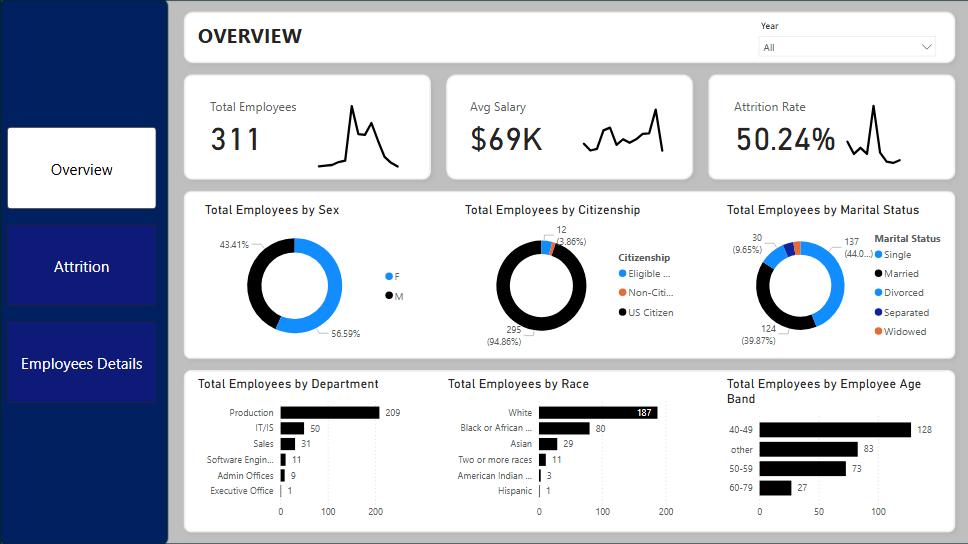

The page's visual inventory and layout, read from the dashboard file:
{"tool":"powerbi","page":{"name":"Overview","canvas":[1280,720],"ordinal":0},"visuals":[{"type":"cardVisual","fields":{"Data":["Measures (2).Total Employees"]},"box":[265.5,119.2,150.8,99],"z":0},{"type":"cardVisual","fields":{"Data":["Measures (2).Attrition Rate"]},"box":[955.1,106.9,162,123.8],"z":3000},{"type":"donutChart","fields":{"Y":["Measures (2).Total Employees"],"Category":["Dataset.Sex"]},"box":[265,267.6,282.1,201.7],"z":4000},{"type":"donutChart","fields":{"Y":["Measures (2).Total Employees"],"Series":["Dataset.CitizenDesc"]},"box":[607.7,267.6,299.2,201.7],"z":5000},{"type":"donutChart","fields":{"Y":["Measures (2).Total Employees"],"Category":["Dataset.MaritalDesc"]},"box":[953.1,267.6,299.2,201.7],"z":6000},{"type":"cardVisual","fields":{"Data":["Measures (2).Avg Salary"]},"box":[607.5,106.9,162,123.8],"z":7000},{"type":"barChart","fields":{"Y":["Measures (2).Total Employees"],"Category":["Dataset.Department"]},"box":[255.7,497,291.3,197.7],"z":8000},{"type":"barChart","title":"Total Employees by Race","fields":{"Y":["Measures (2).Total Employees"],"Category":["Dataset.RaceDesc"]},"box":[585.3,497,321.6,197.7],"z":9000},{"type":"barChart","fields":{"Y":["Measures (2).Total Employees"],"Category":["Dataset.Employee Age Band"]},"box":[953.1,497,291.3,197.7],"z":10000},{"type":"slicer","fields":{"Values":["Dataset.Year"]},"box":[990,23.7,254.4,67.2],"z":11000},{"type":"textbox","box":[255.7,23.7,282.1,56.7],"z":12000},{"type":"lineChart","fields":{"Category":["Dataset.Year"],"Y":["Measures (2).Total Employees"]},"box":[397.1,110.2,159.8,117],"z":12001},{"type":"lineChart","fields":{"Category":["Dataset.Year"],"Y":["Measures (2).Avg Salary"]},"box":[746.1,109.4,159.5,117.3],"z":12002},{"type":"lineChart","fields":{"Category":["Dataset.Year"],"Y":["Measures (2).Attrition Rate"]},"box":[1084.9,109.4,159.5,117.3],"z":12003},{"type":"pageNavigator","box":[9.2,168.7,197.7,366.5],"z":12004}]}

Visuals, with their boxes on the page's 1280x720 design canvas (x1, y1, x2, y2). These are canvas units, not pixel positions in the 968x544 screenshot, which may show the page scaled, cropped or inside an application window:
cardVisual - Measures (2).Total Employees: l=266, t=119, r=416, b=218
cardVisual - Measures (2).Attrition Rate: l=955, t=107, r=1117, b=231
donutChart - Measures (2).Total Employees x Dataset.Sex: l=265, t=268, r=547, b=469
donutChart - Measures (2).Total Employees x Dataset.CitizenDesc: l=608, t=268, r=907, b=469
donutChart - Measures (2).Total Employees x Dataset.MaritalDesc: l=953, t=268, r=1252, b=469
cardVisual - Measures (2).Avg Salary: l=608, t=107, r=770, b=231
barChart - Measures (2).Total Employees x Dataset.Department: l=256, t=497, r=547, b=695
"Total Employees by Race" barChart: l=585, t=497, r=907, b=695
barChart - Measures (2).Total Employees x Dataset.Employee Age Band: l=953, t=497, r=1244, b=695
slicer - Dataset.Year: l=990, t=24, r=1244, b=91
textbox: l=256, t=24, r=538, b=80
lineChart - Dataset.Year x Measures (2).Total Employees: l=397, t=110, r=557, b=227
lineChart - Dataset.Year x Measures (2).Avg Salary: l=746, t=109, r=906, b=227
lineChart - Dataset.Year x Measures (2).Attrition Rate: l=1085, t=109, r=1244, b=227
pageNavigator: l=9, t=169, r=207, b=535
